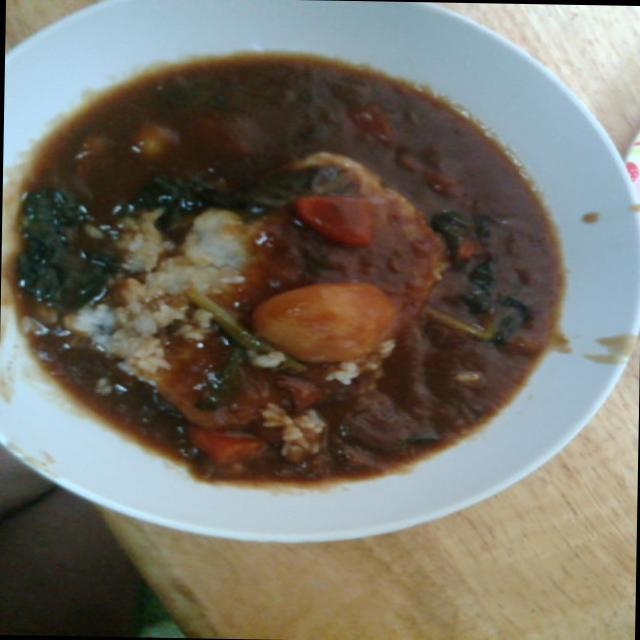Beef Curry: (2, 50, 576, 479)
